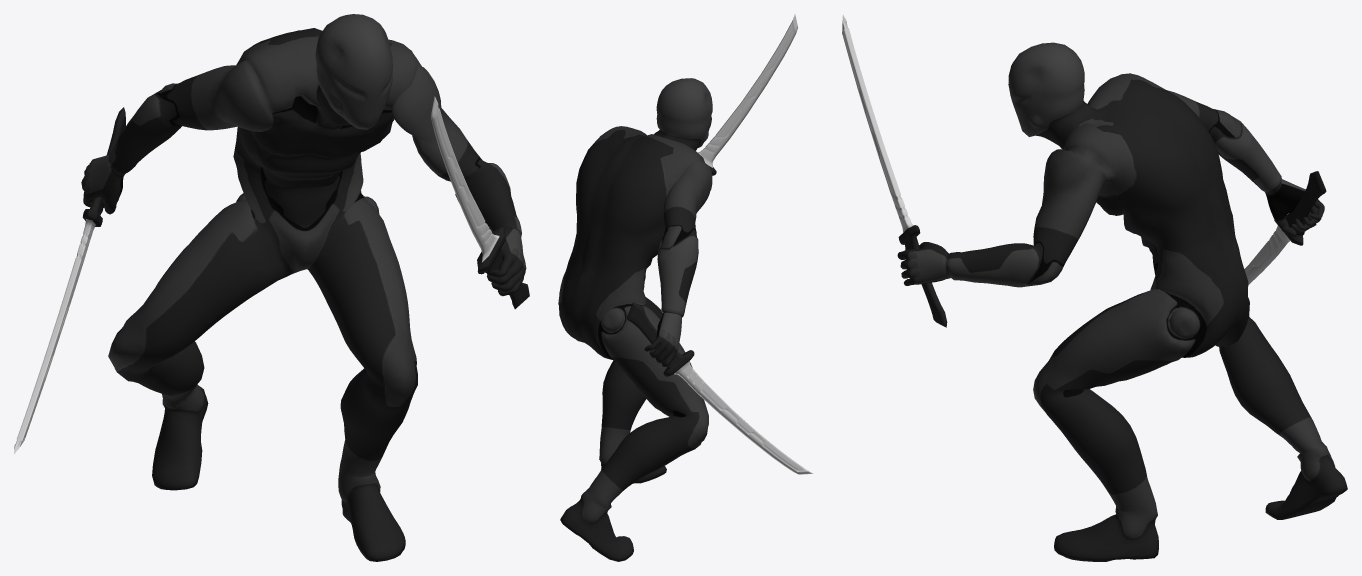
The picture shows the model from 3 angles, left to right: view 1: azimuth 30°, elevation 25°; view 2: azimuth 150°, elevation 25°; view 3: azimuth 270°, elevation 25°; orthographic projection. The views are drawn at different scales.
Parts seen in each view (by area): view 1: Cyborg_Ninja_Killer, Sword_l, Sword_l001; view 2: Cyborg_Ninja_Killer, Sword_l001, Sword_l; view 3: Cyborg_Ninja_Killer, Sword_l, Sword_l001.
Part boxes in pixels (x1,y1,x2,y2): Cyborg_Ninja_Killer: (81,14,526,561); Sword_l: (431,96,529,309); Sword_l001: (14,107,125,453); Cyborg_Ninja_Killer: (558,78,712,561); Sword_l001: (626,302,812,474); Sword_l: (698,14,797,175); Cyborg_Ninja_Killer: (897,42,1347,561); Sword_l: (842,14,947,327); Sword_l001: (1244,171,1326,284).
Bounding box in the file's own units: 109 × 151 × 136.
Materials: 2 (2 with a texture image).
